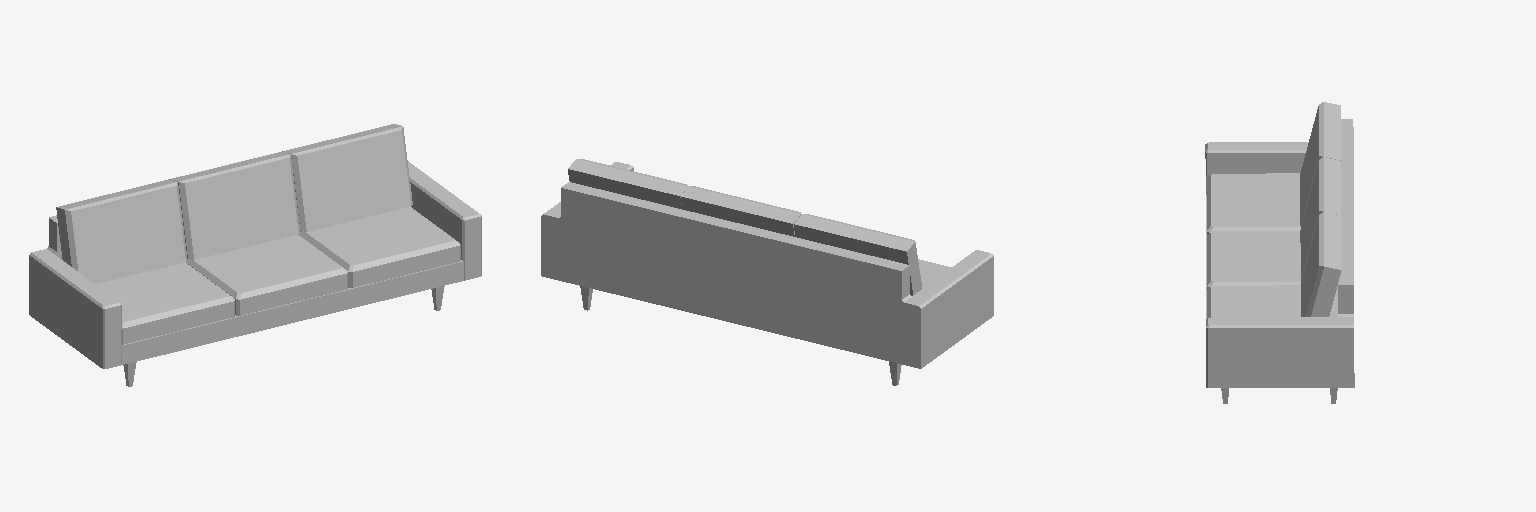
The model's file is couch.obj.
3 views of the same model, side by side, from view 1: azimuth 30°, elevation 25°; view 2: azimuth 150°, elevation 25°; view 3: azimuth 270°, elevation 25° (orthographic).
Size of the model in its own units: 3.15 by 1.14 by 1.07.